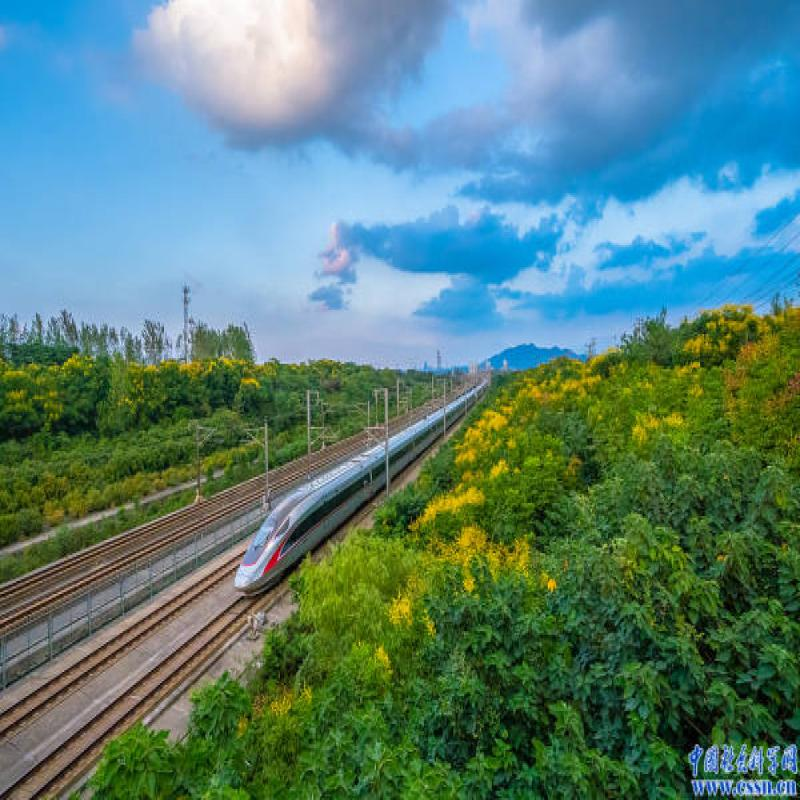train: (228, 378, 498, 600)
